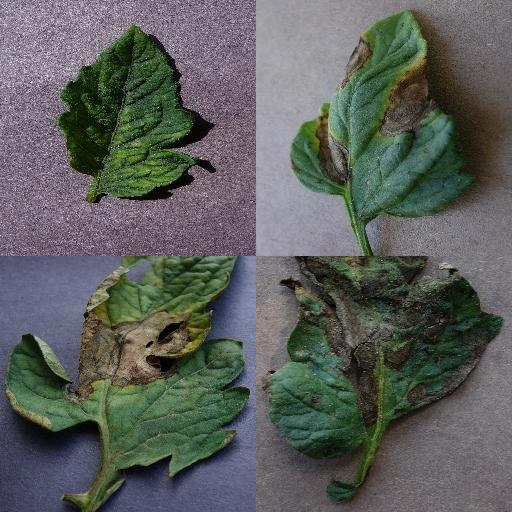Early Blight: (267, 256, 502, 464), (290, 9, 474, 219)
Late Blight: (4, 256, 249, 478)
Mosaic Virus: (60, 24, 198, 198)
